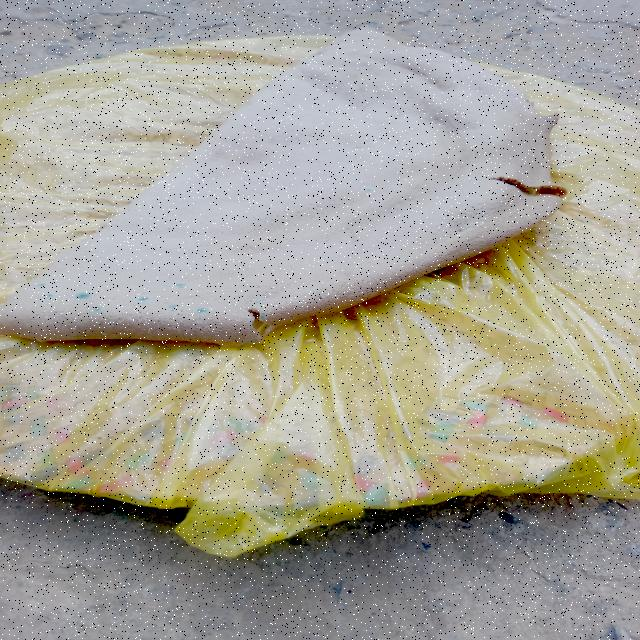injera_mold: (175, 318, 233, 340), (111, 317, 166, 335), (287, 293, 304, 308), (74, 291, 91, 300), (135, 295, 150, 304), (242, 338, 258, 345), (360, 186, 375, 193), (173, 282, 187, 289), (254, 298, 266, 305), (196, 307, 208, 313), (92, 306, 103, 312), (260, 312, 268, 320), (44, 292, 54, 298), (36, 282, 46, 288), (168, 304, 179, 308), (480, 221, 485, 226), (313, 97, 319, 100), (75, 284, 82, 286), (194, 292, 200, 294)
